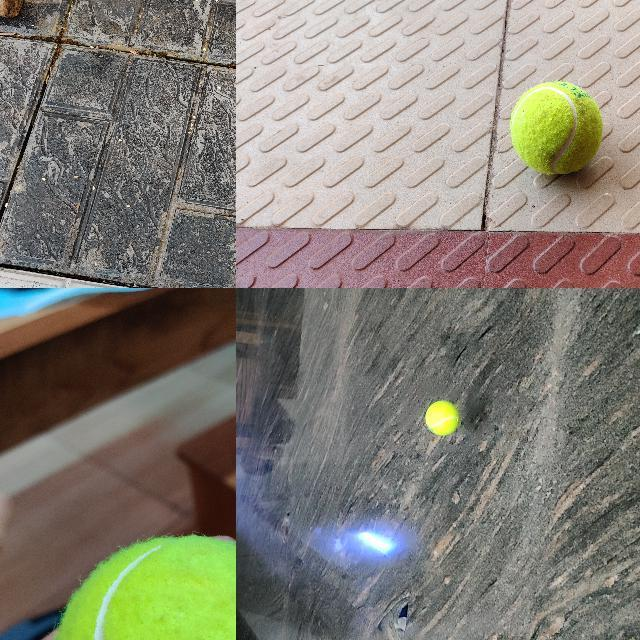tennis-ball: (54, 536, 235, 639), (510, 81, 602, 174), (425, 401, 460, 436)
